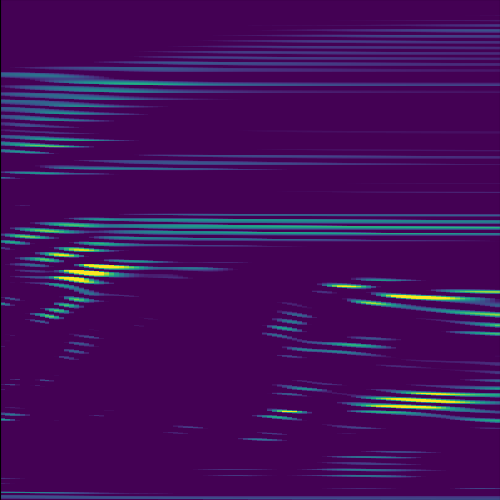semblance: (346, 387, 479, 420), (47, 260, 141, 285), (37, 246, 106, 263)
